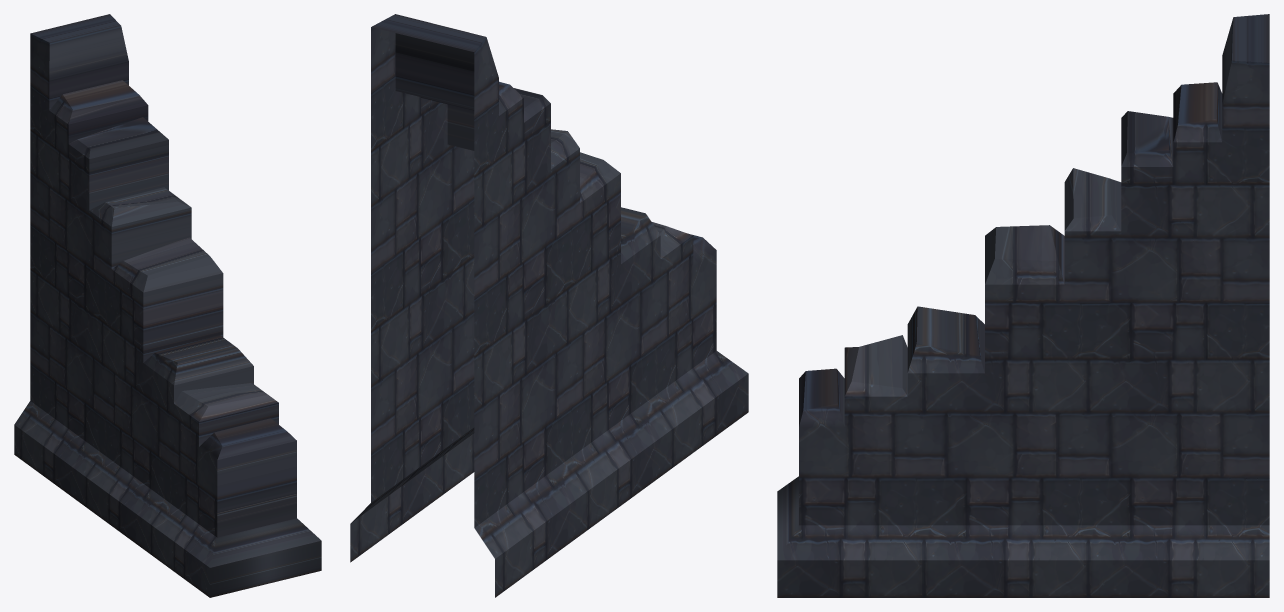
The model's file is Ruins_Wall_006.fbx.
The picture shows the model from 3 angles, left to right: view 1: azimuth 30°, elevation 25°; view 2: azimuth 150°, elevation 25°; view 3: azimuth 270°, elevation 25°; orthographic projection. The views are drawn at different scales.
Visible parts, largest first — view 1: Ruins_Wall_006; view 2: Ruins_Wall_006; view 3: Ruins_Wall_006.
Boxes of the visible parts, x1=… form: Ruins_Wall_006: x1=14, y1=14, x2=321, y2=597; Ruins_Wall_006: x1=350, y1=14, x2=748, y2=597; Ruins_Wall_006: x1=777, y1=14, x2=1269, y2=597.
Bounding box in the file's own units: 1.4 × 5 × 4.25.
1 material, 1 textured.
